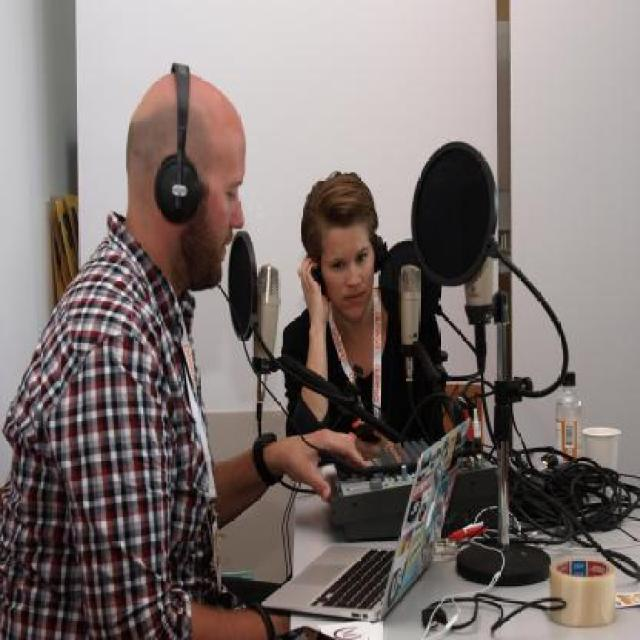earphone: (140, 60, 207, 235), (348, 167, 397, 285)
laptop_computer: (282, 428, 482, 627)
